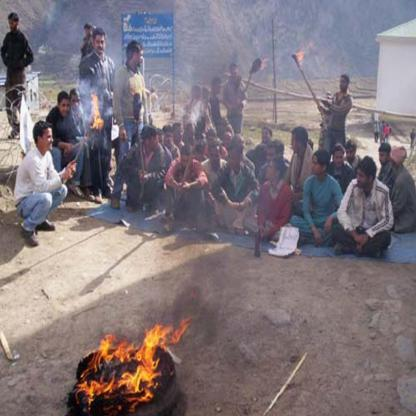face: (43, 127, 55, 151), (106, 156, 118, 175), (357, 170, 369, 188), (311, 156, 322, 175), (96, 35, 106, 55), (267, 148, 277, 167), (210, 148, 221, 165), (61, 100, 71, 118), (229, 151, 239, 169), (291, 134, 300, 154), (71, 95, 81, 112), (266, 162, 276, 179), (334, 151, 344, 168), (150, 135, 160, 150), (236, 137, 246, 151), (176, 126, 184, 142), (165, 132, 174, 146), (379, 151, 388, 165), (182, 155, 190, 170), (189, 127, 196, 144), (262, 130, 271, 143), (347, 148, 355, 161), (208, 137, 217, 148), (136, 51, 143, 65), (225, 132, 232, 146), (391, 158, 398, 172), (205, 110, 211, 125), (10, 19, 17, 31), (193, 87, 200, 99), (340, 78, 347, 90), (215, 82, 221, 95), (193, 149, 199, 161), (232, 68, 239, 78), (158, 133, 164, 144), (205, 86, 210, 98), (86, 29, 91, 37)
